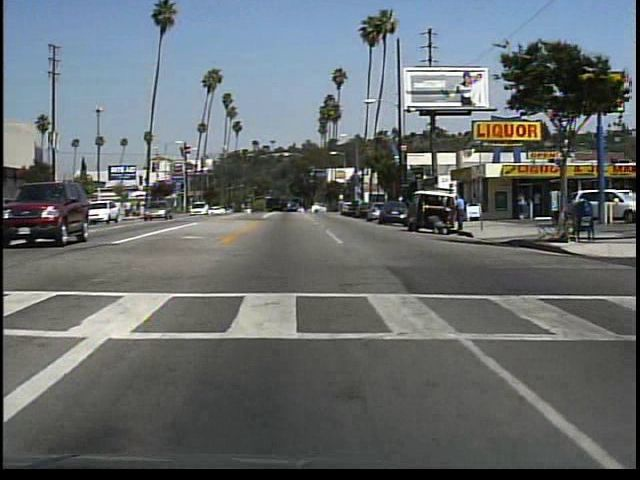person: (451, 190, 471, 234), (12, 193, 38, 224), (513, 188, 527, 223), (428, 213, 446, 235), (532, 187, 543, 218)
